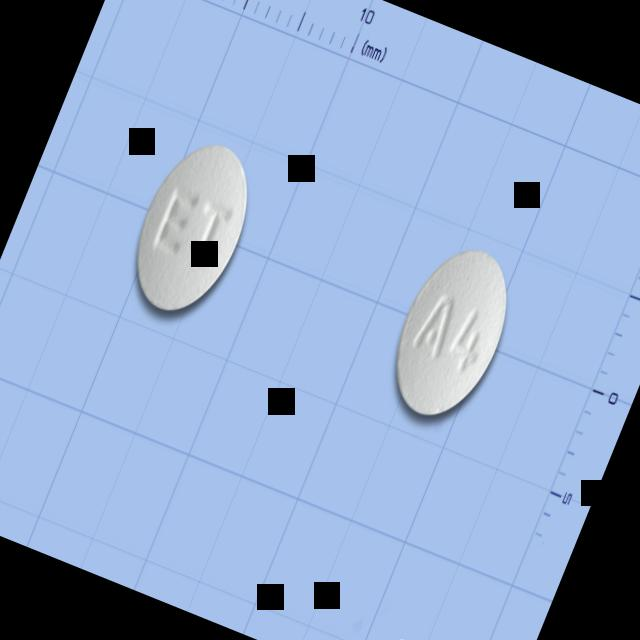Ciropan: (114, 124, 271, 328), (373, 233, 528, 433)
